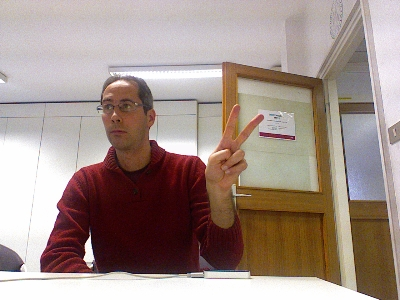剪刀: (204, 101, 265, 189)
